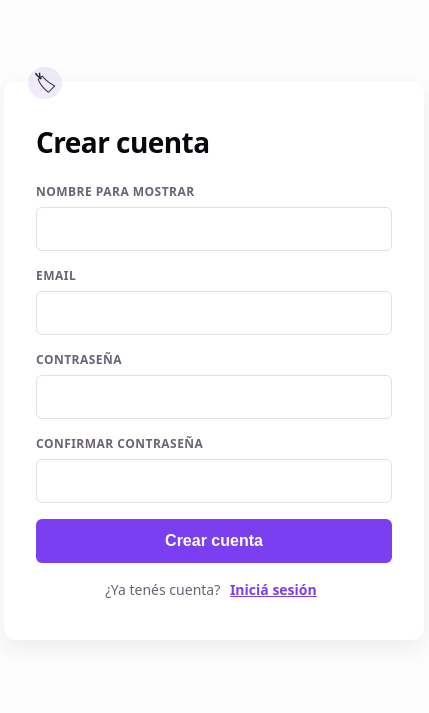
SignupPage › enviar el formulario vacío muestra los errores de campo, integrados en la página
Click the button "Crear cuenta". click: [214, 540]
box: [36,518,392,562]
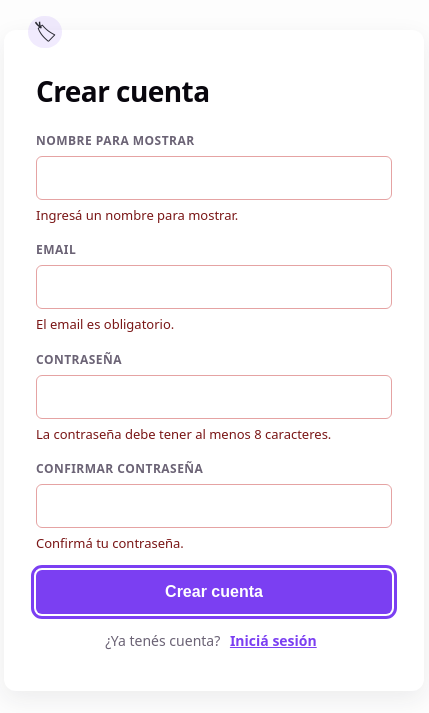
Now the text "Ingresá un nombre para mostrar." is shown, box [36,206,238,224]
